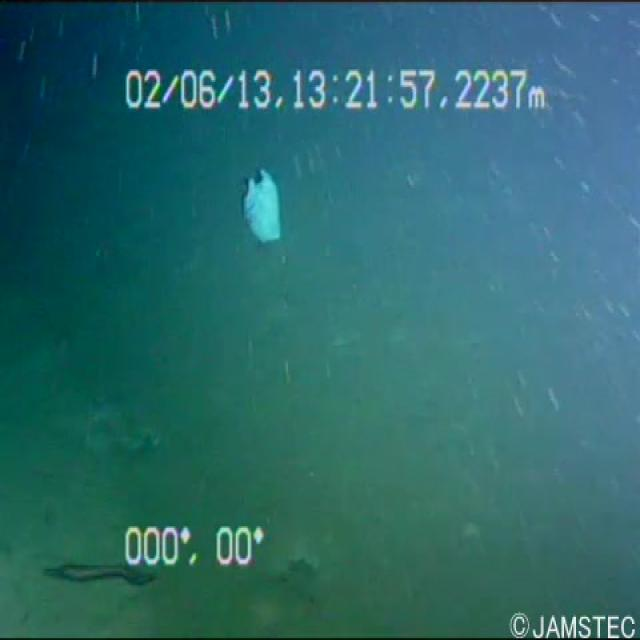plastic: (228, 167, 296, 254)
